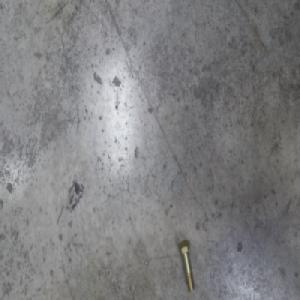Bolt: (177, 238, 195, 291)
